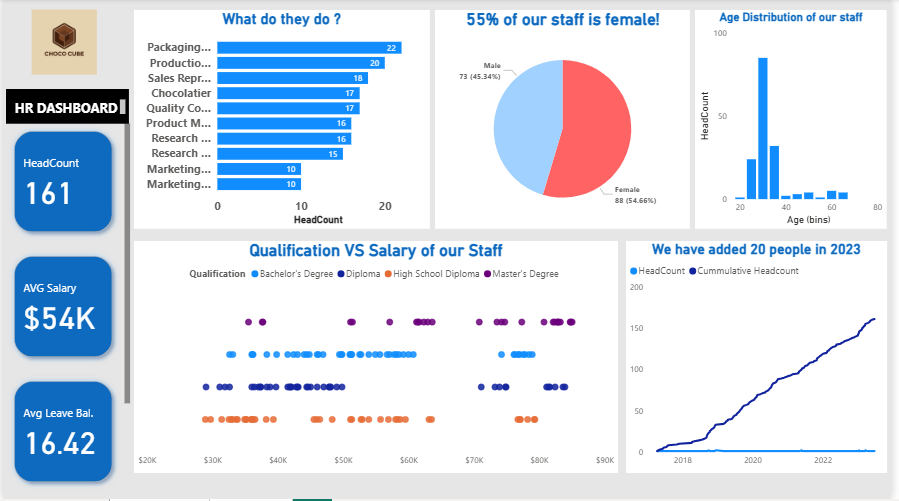

The page's visual inventory and layout, read from the dashboard file:
{"tool":"powerbi","page":{"name":"Dashboard","canvas":[1280,720],"ordinal":0},"visuals":[{"type":"cardVisual","fields":{"Data":["Staff.HeadCount","Staff.AVG Salary","Staff.Avg Leave Bal.","Staff.LBL over 20 days"]},"box":[0,174.2,188.6,545.8],"z":0},{"type":"clusteredBarChart","title":"What do they do ?","fields":{"Category":["Staff.Job Title"],"Y":["Staff.HeadCount"]},"box":[188.6,15.8,426.2,315.4],"z":1000},{"type":"pieChart","title":"55% of our staff is female!","fields":{"Category":["Staff.Gender"],"Y":["Staff.HeadCount"]},"box":[622.1,15.8,367.2,315.4],"z":2000},{"type":"columnChart","title":"Age Distribution of our staff","fields":{"Category":["Staff.Age (bins)"],"Y":["Staff.HeadCount"]},"box":[996.5,15.8,276.5,315.4],"z":3000},{"type":"scatterChart","title":"Qualification VS Salary of our Staff","fields":{"X":["Staff.Salary"],"Y":["Qual.Qualification ID"],"Series":["Qual.Qualification"]},"box":[188.6,348.5,697,334.1],"z":4000},{"type":"lineChart","title":"We have added 20 people in 2023","fields":{"Y":["Staff.HeadCount","Staff.Cummulative Headcount"],"Category":["Staff.Date of Join"]},"box":[897.1,348.5,375.8,334.1],"z":5000},{"type":"image","box":[30.2,10.1,116.6,103.7],"z":6000},{"type":"textbox","box":[5,130,177.1,50],"z":7000}]}

Visuals, with their boxes in screenshot pixels (x1, y1, x2, y2), scaled from the page's 1280x720 canvas onto the 899x501 screenshot:
cardVisual - Staff.HeadCount x Staff.AVG Salary: {"x1": 0, "y1": 121, "x2": 132, "y2": 500}
"What do they do ?" clusteredBarChart: {"x1": 132, "y1": 11, "x2": 432, "y2": 230}
"55% of our staff is female!" pieChart: {"x1": 437, "y1": 11, "x2": 695, "y2": 230}
"Age Distribution of our staff" columnChart: {"x1": 700, "y1": 11, "x2": 894, "y2": 230}
"Qualification VS Salary of our Staff" scatterChart: {"x1": 132, "y1": 242, "x2": 622, "y2": 475}
"We have added 20 people in 2023" lineChart: {"x1": 630, "y1": 242, "x2": 894, "y2": 475}
image: {"x1": 21, "y1": 7, "x2": 103, "y2": 79}
textbox: {"x1": 4, "y1": 90, "x2": 128, "y2": 125}
